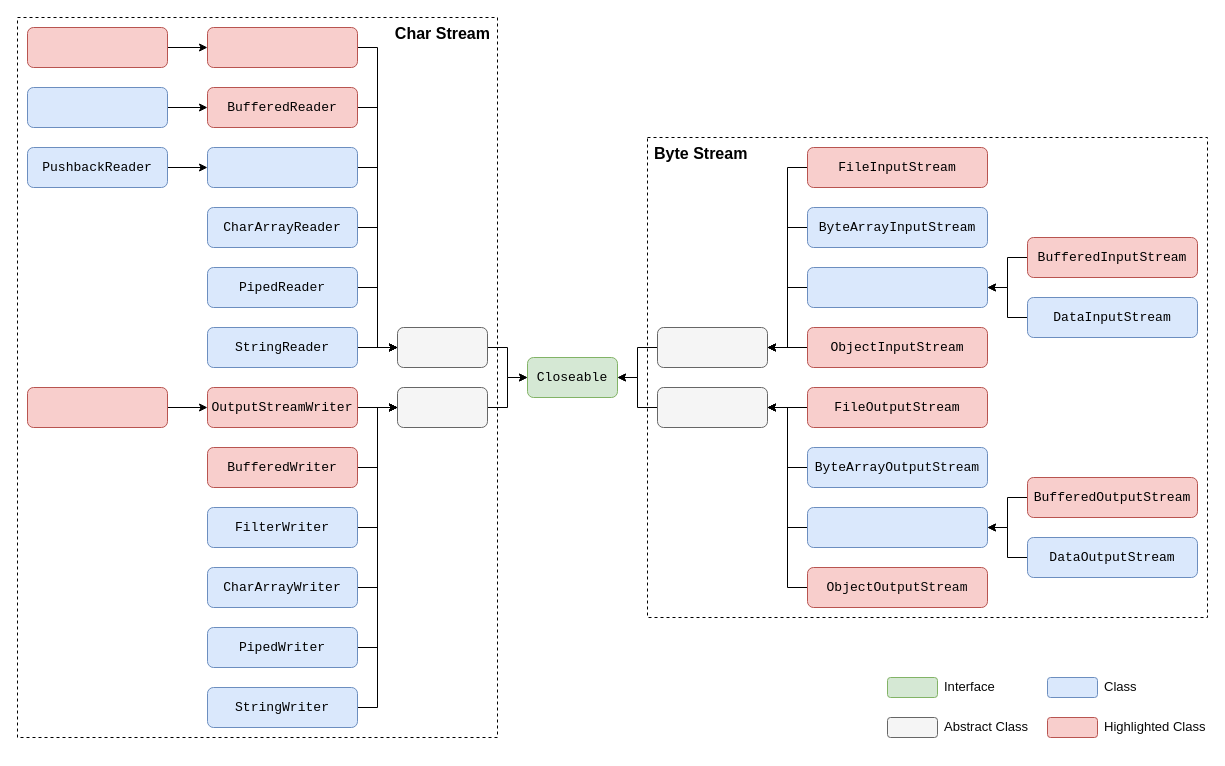
Image size: 1225x766. Some labels were removed from this diagram. Here are the shapes that lost their labels. From the top down, the centre of each, then its label:
the point at 97,47: FileReader
the point at 282,47: InputStreamReader
the point at 97,107: LineNumberReader
the point at 282,167: FilterReader
the point at 897,287: FilterInputStream
the point at 442,347: Reader
the point at 712,347: InputStream
the point at 97,407: FileWriter
the point at 442,407: Writer
the point at 712,407: OutputStream
the point at 897,527: FilterOut putStream
